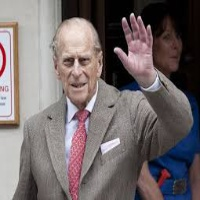ring: (136, 15, 147, 45)
